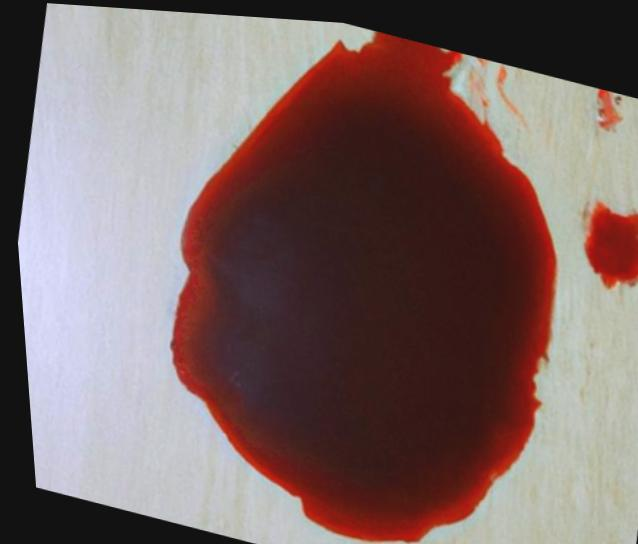Fire: (164, 26, 555, 538), (580, 193, 638, 281), (596, 80, 623, 121)
